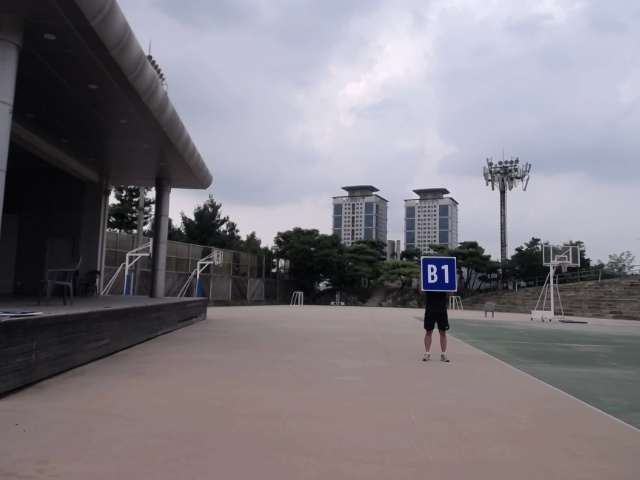delivery_b1: (421, 256, 457, 291)
